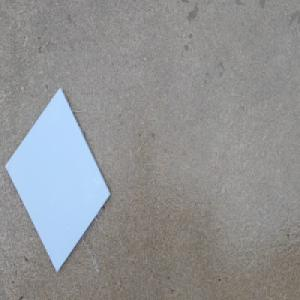PaintChip: (3, 87, 111, 273)
